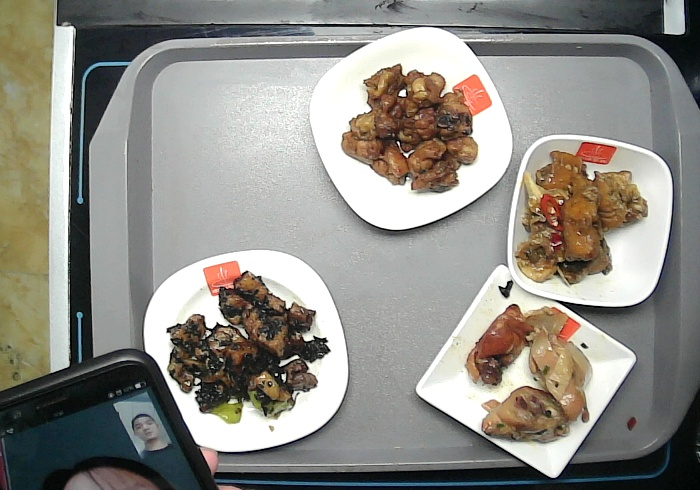SHKJ-Bai_Se_Cai_Die: (305, 23, 516, 235)
SHKJ-Bai_Se_Si_Fang_Cai_Die: (138, 246, 357, 456)
SHKJ-Bai_Se_Xiao_Fang_Die: (504, 131, 676, 312)
SHKJ-Si_Fang_Min: (413, 262, 642, 483)
